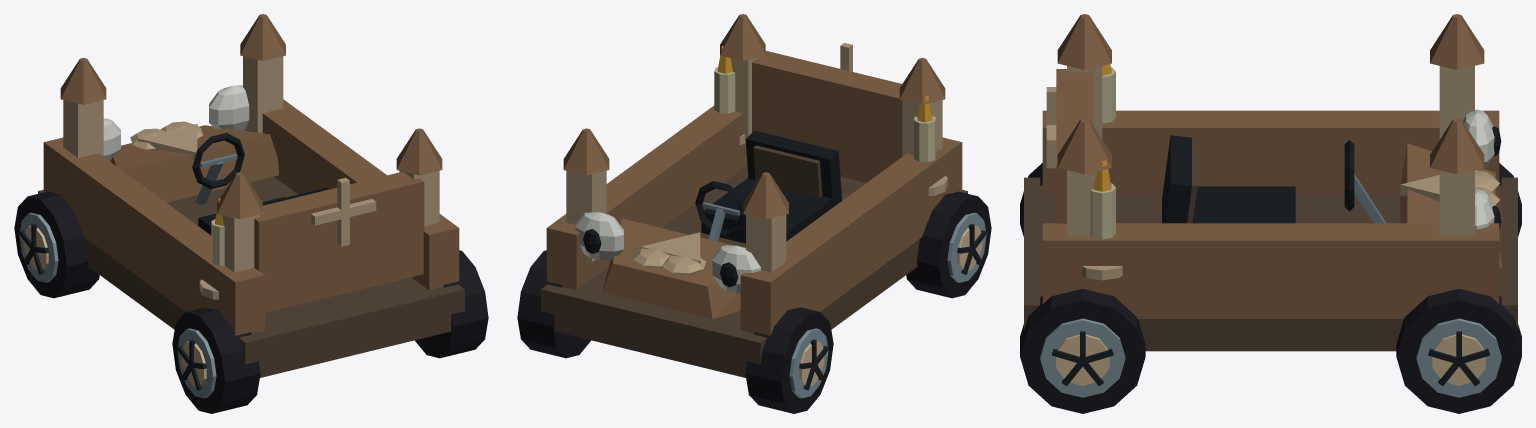
Rendered from kart.glb.
The picture shows the model from 3 angles, left to right: view 1: azimuth 30°, elevation 25°; view 2: azimuth 150°, elevation 25°; view 3: azimuth 270°, elevation 25°; orthographic projection. The views are drawn at different scales.
Parts seen in each view (by area): view 1: identity-reliquary-reliquary-arched-stone-chest, wheel-rear-left, wheel-front-left, wheel-rear-right, identity-reliquary-motif-eyes, identity-reliquary-driver-cockpit, identity-reliquary-motif-heart, identity-reliquary-motif-candles; view 2: identity-reliquary-reliquary-arched-stone-chest, identity-reliquary-driver-cockpit, wheel-front-left, wheel-rear-left, identity-reliquary-motif-eyes, wheel-front-right, identity-reliquary-motif-candles, identity-reliquary-motif-heart; view 3: identity-reliquary-reliquary-arched-stone-chest, wheel-front-right, wheel-rear-right, identity-reliquary-driver-cockpit, identity-reliquary-motif-candles, identity-reliquary-motif-eyes, identity-reliquary-motif-heart.
Part boxes in pixels (x1,y1,x2,y2): identity-reliquary-reliquary-arched-stone-chest: (38,14,464,377); wheel-rear-left: (172,307,260,413); wheel-front-left: (14,191,99,298); wheel-rear-right: (415,250,488,358); identity-reliquary-motif-eyes: (103,85,249,161); identity-reliquary-driver-cockpit: (192,132,329,235); identity-reliquary-motif-heart: (130,121,202,160); identity-reliquary-motif-candles: (199,198,224,299); identity-reliquary-reliquary-arched-stone-chest: (541,14,967,377); identity-reliquary-driver-cockpit: (695,130,841,243); wheel-front-left: (745,307,833,413); wheel-rear-left: (906,191,991,298); identity-reliquary-motif-eyes: (575,212,760,293); wheel-front-right: (517,250,590,358); identity-reliquary-motif-candles: (714,46,947,196); identity-reliquary-motif-heart: (633,232,705,275); identity-reliquary-reliquary-arched-stone-chest: (1024,14,1517,351); wheel-front-right: (1396,288,1521,413); wheel-rear-right: (1020,288,1145,413); identity-reliquary-driver-cockpit: (1162,135,1386,223); identity-reliquary-motif-candles: (1082,64,1122,280); identity-reliquary-motif-eyes: (1463,109,1501,229); identity-reliquary-motif-heart: (1400,170,1499,205).
Size of the model in its own units: 1.97 by 1.51 by 2.56.
